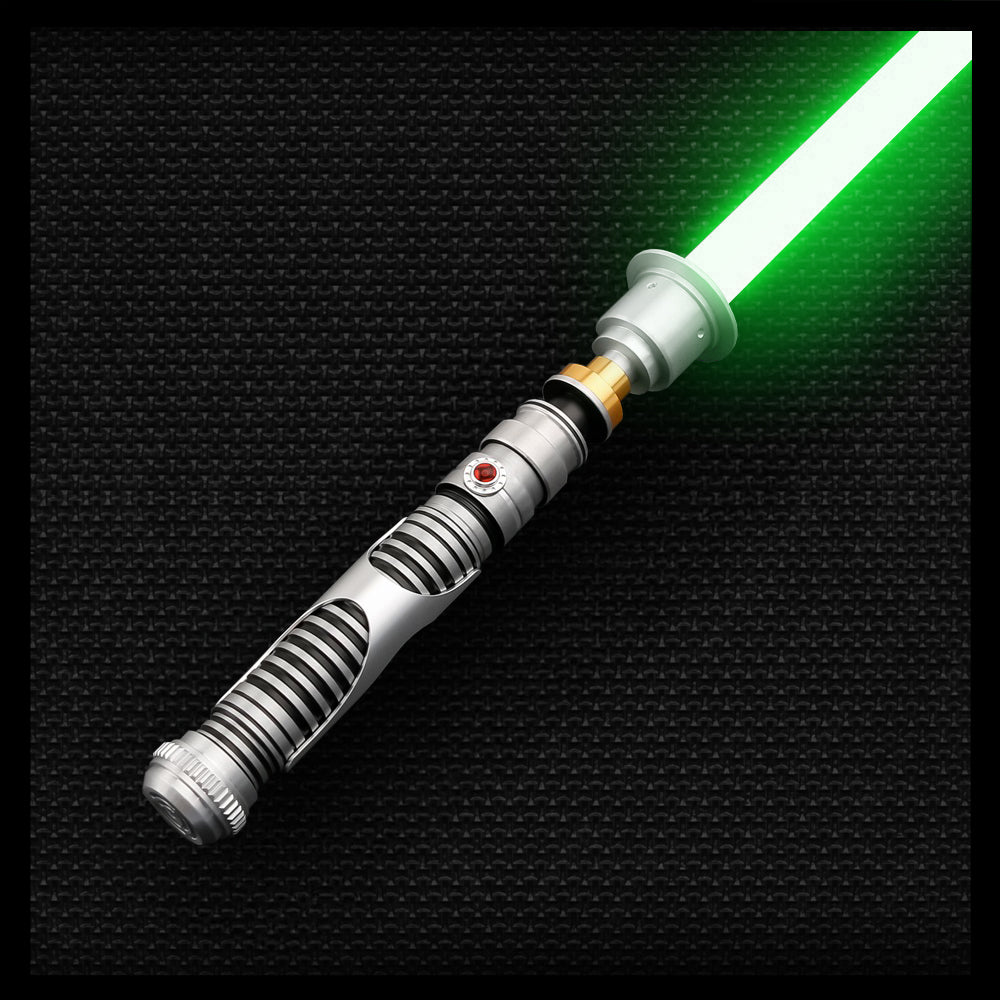lightsaber: (115, 0, 957, 854)
